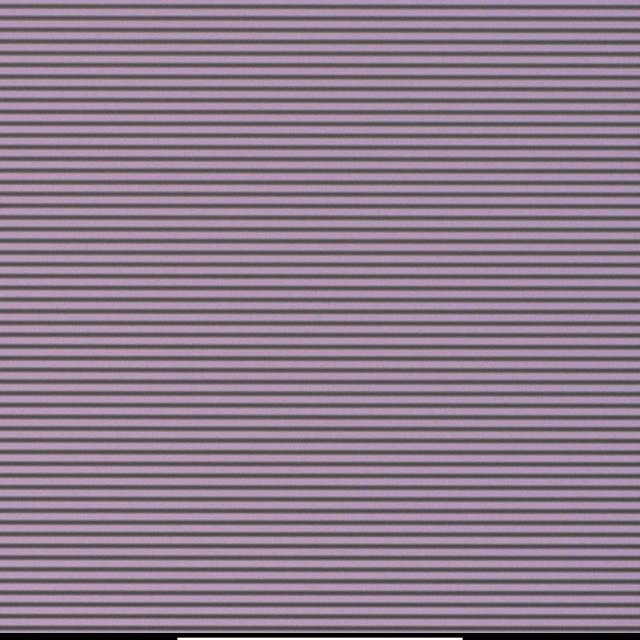nonvisual: (304, 316, 316, 328)
